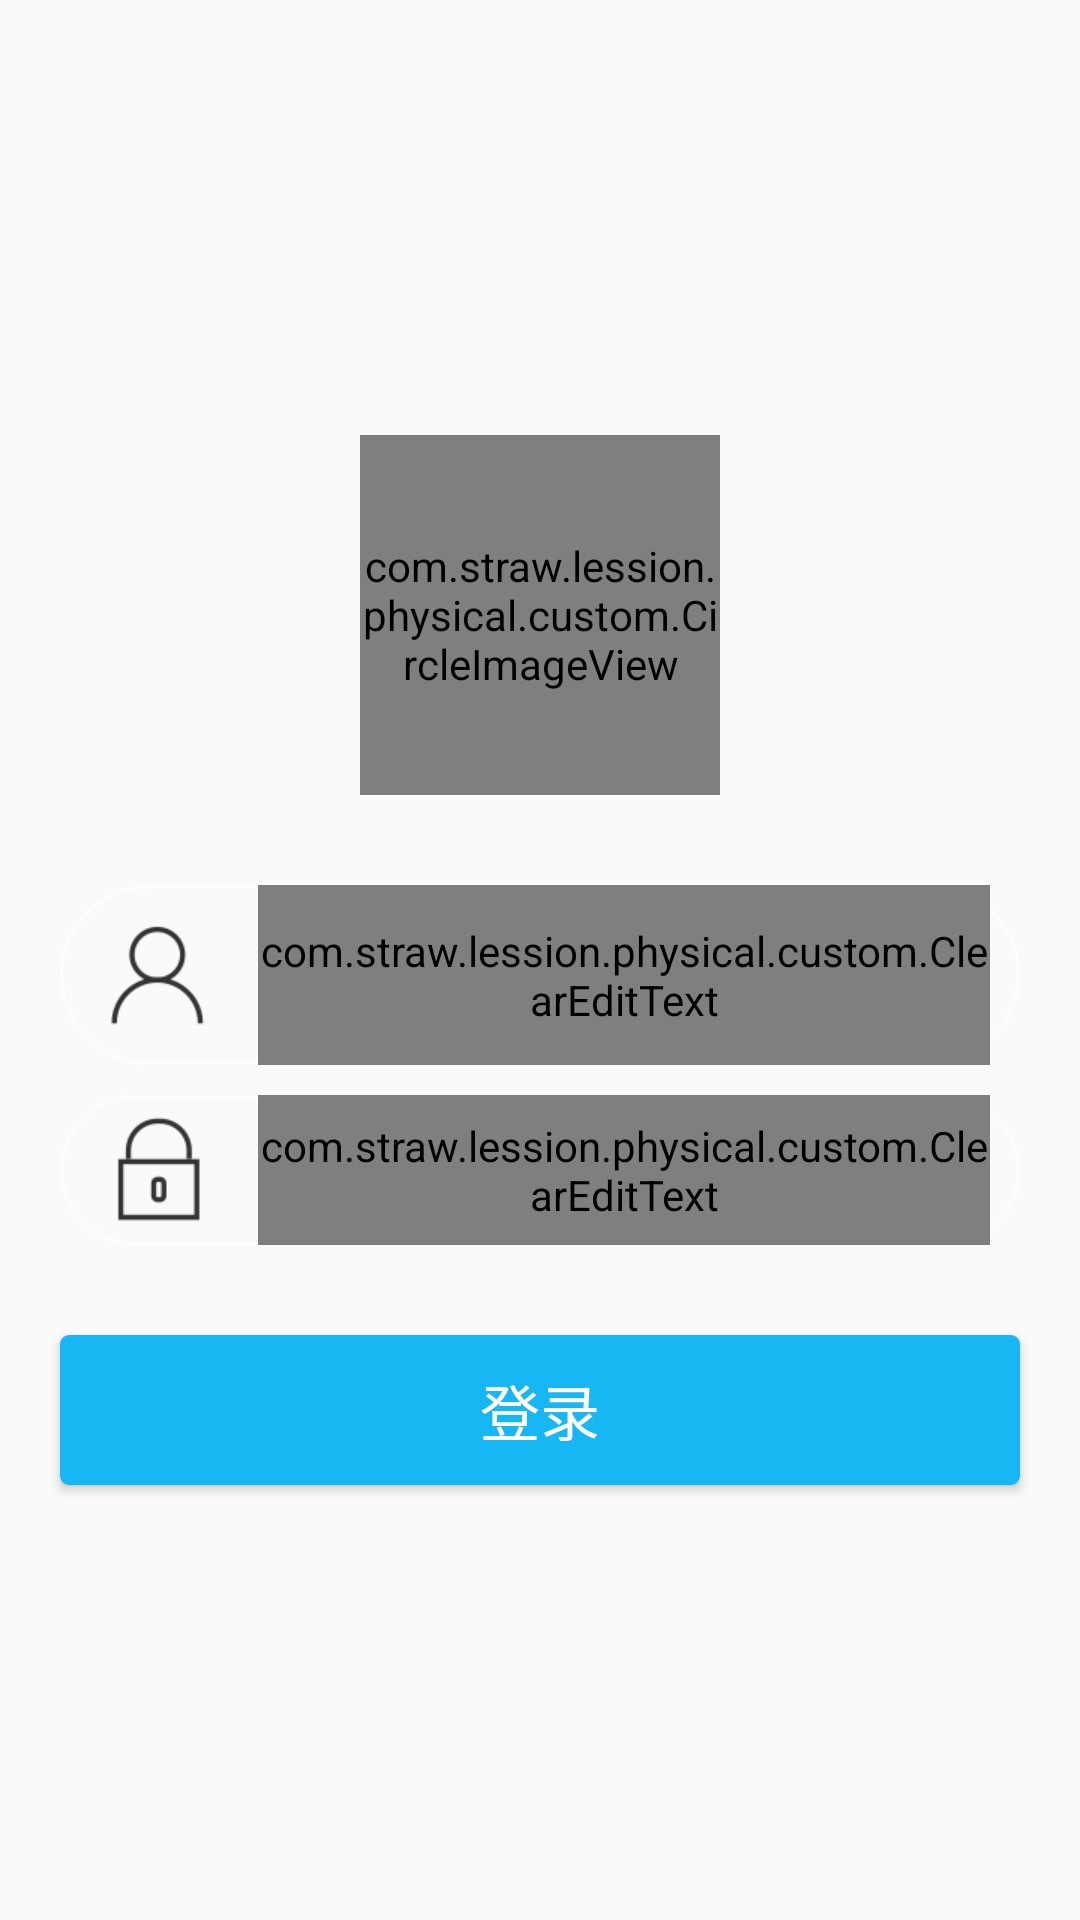

Point at icon controls on the screen. Image size 1080px x 1920px, points as (x=x, y=y).
login password: (x=159, y=1169)
login user: (x=157, y=975)
